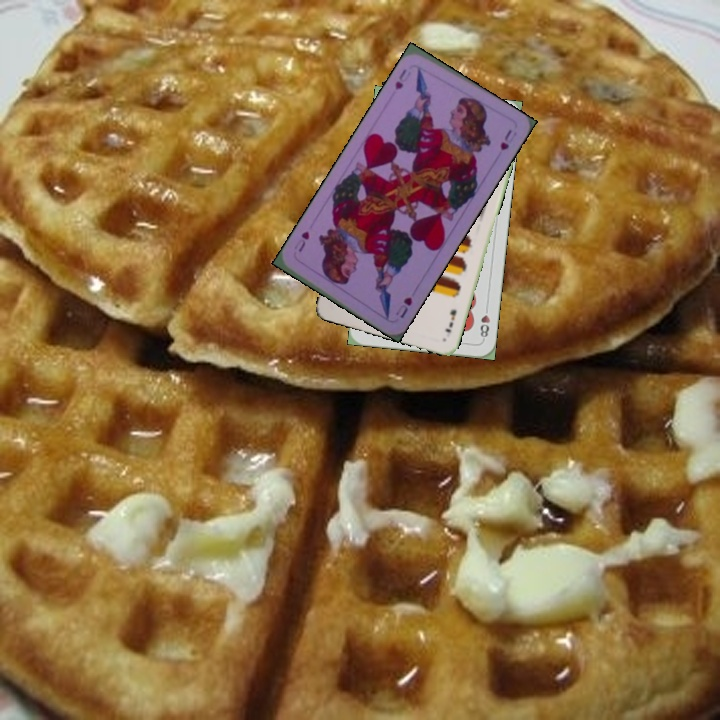E7: (441, 306, 459, 335)
H8: (476, 302, 492, 342)
HU: (391, 65, 416, 93), (392, 293, 415, 321)
